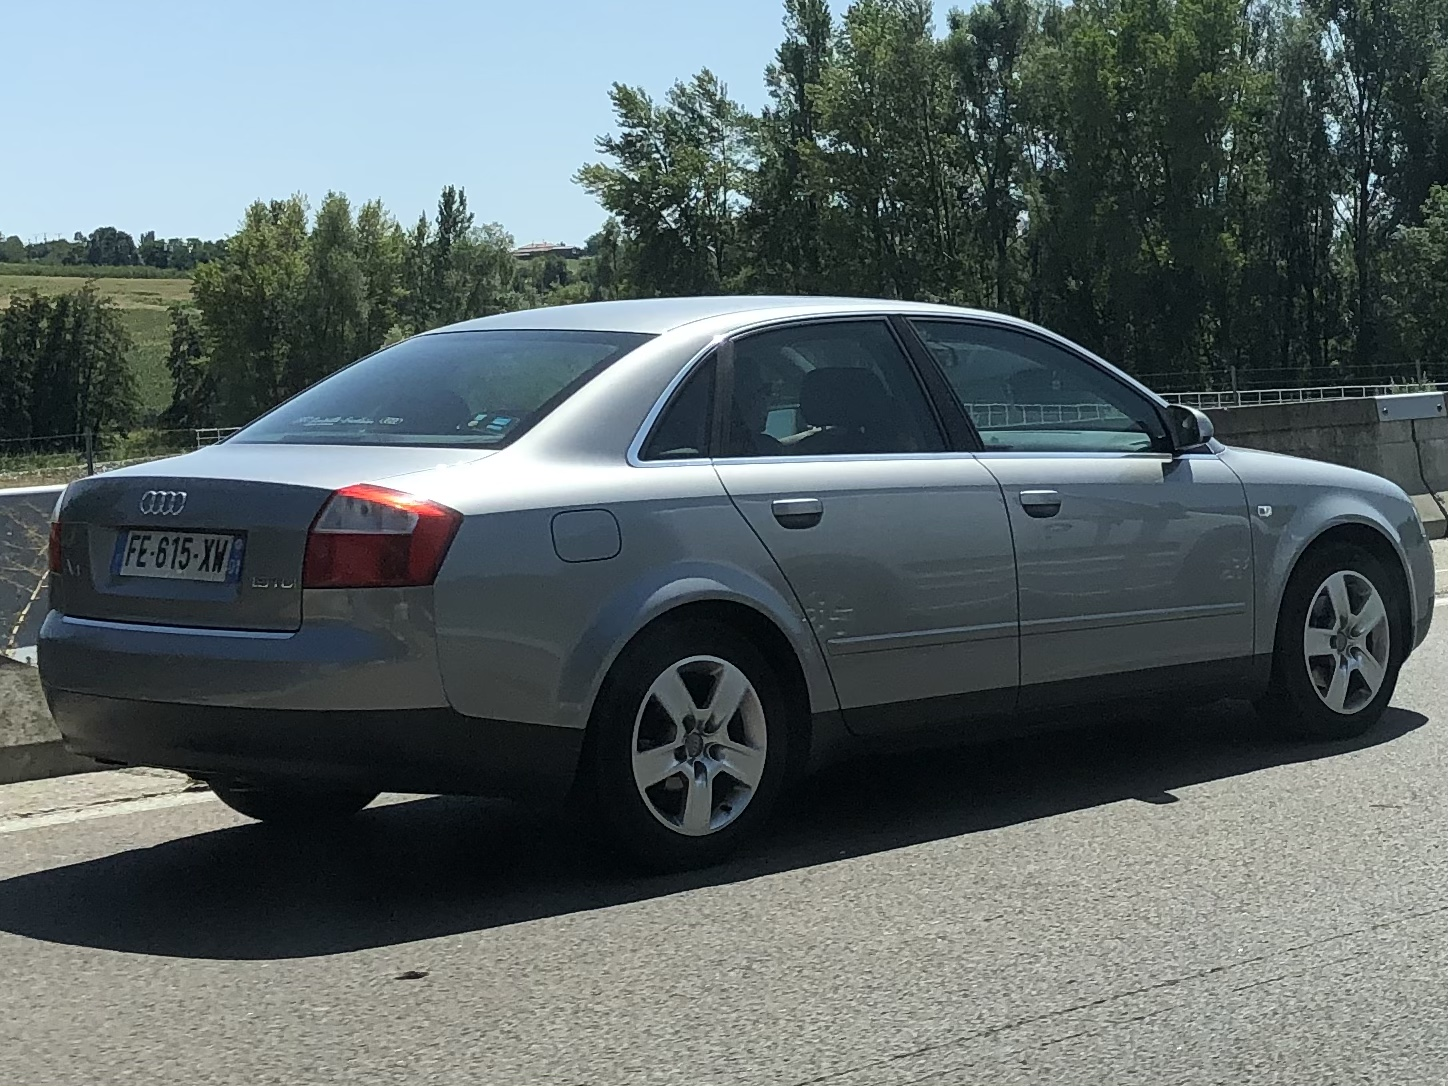licence plate: (104, 524, 249, 588)
